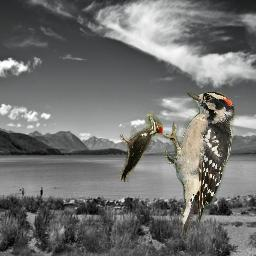Woodpecker: (163, 92, 237, 243), (117, 114, 163, 182)
